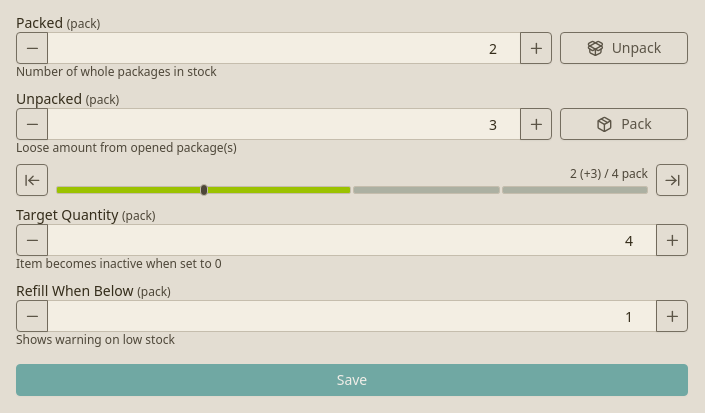
Test case: ItemForm — stock tab steppers step by the Constraint-4 increment › user steps Packed by 1 always, even when consumeAmount is 2
This screenshot has width=705, height=413.
Click the button named "Increase packed" at {"x": 536, "y": 48}, box 520,32 -> 552,64
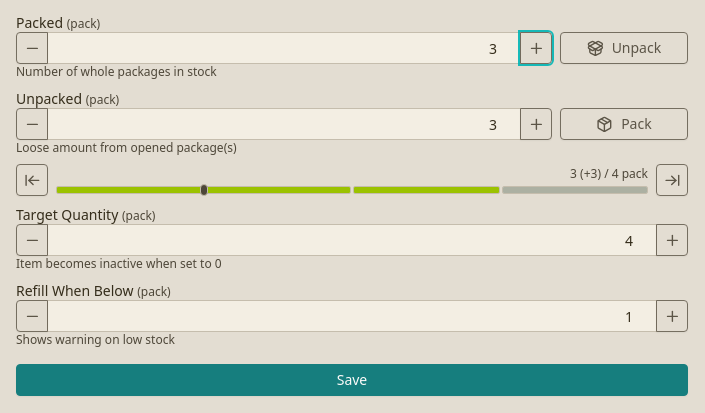
Expected: the number field labelled "Packed (pack)" holds "3", 47,32 -> 521,64
